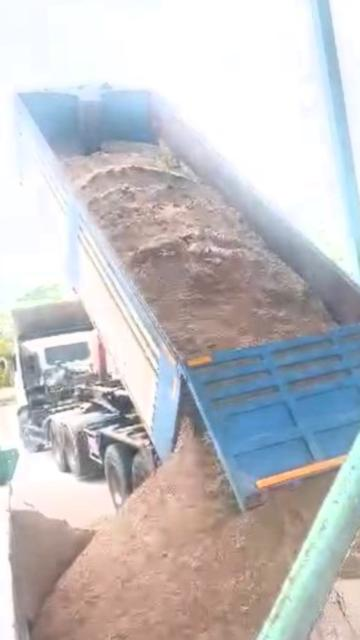sand: (33, 424, 331, 640), (66, 141, 333, 356), (286, 455, 360, 640), (12, 501, 93, 621)
